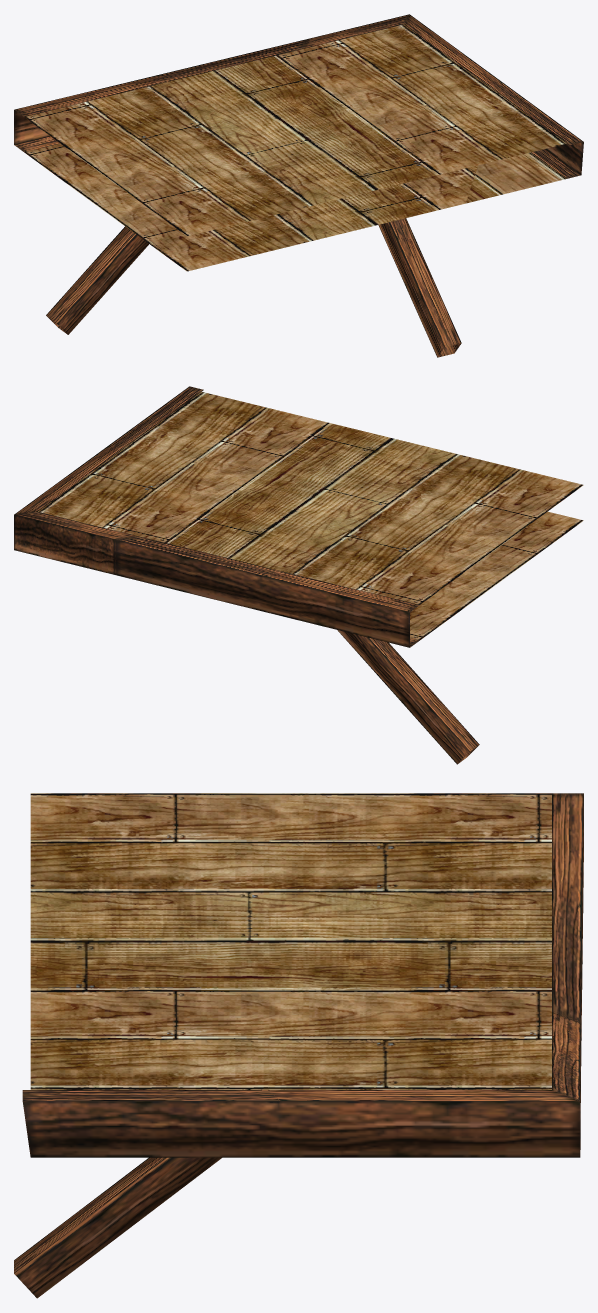
Rendered from LAKETOWN_WAREHOUSE3_PS_WH3_PLATFORM37373__GX.fbx.
The picture shows the model from 3 angles, top to bottom: view 1: azimuth 30°, elevation 25°; view 2: azimuth 150°, elevation 25°; view 3: azimuth 270°, elevation 25°; orthographic projection. The views are drawn at different scales.
Parts seen in each view (by area): view 1: LAKETOWN_WAREHOUSE3_PS_WH3_PLATFORM37373__GX; view 2: LAKETOWN_WAREHOUSE3_PS_WH3_PLATFORM37373__GX; view 3: LAKETOWN_WAREHOUSE3_PS_WH3_PLATFORM37373__GX.
Part boxes in pixels (x1,y1,x2,y2): LAKETOWN_WAREHOUSE3_PS_WH3_PLATFORM37373__GX: [14, 14, 583, 357]; LAKETOWN_WAREHOUSE3_PS_WH3_PLATFORM37373__GX: [14, 386, 583, 764]; LAKETOWN_WAREHOUSE3_PS_WH3_PLATFORM37373__GX: [14, 793, 583, 1298].
Bounding box in the file's own units: 41556 × 17935 × 31409.
Materials: 2 (2 with a texture image).
